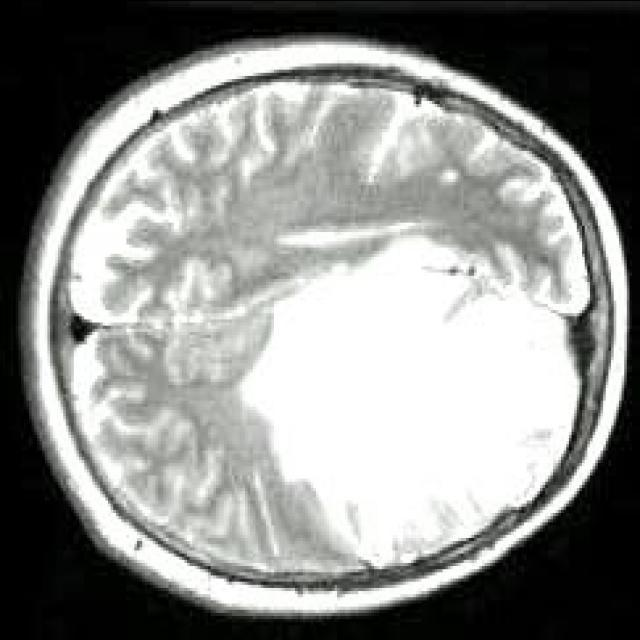tumor: (242, 234, 585, 568)
